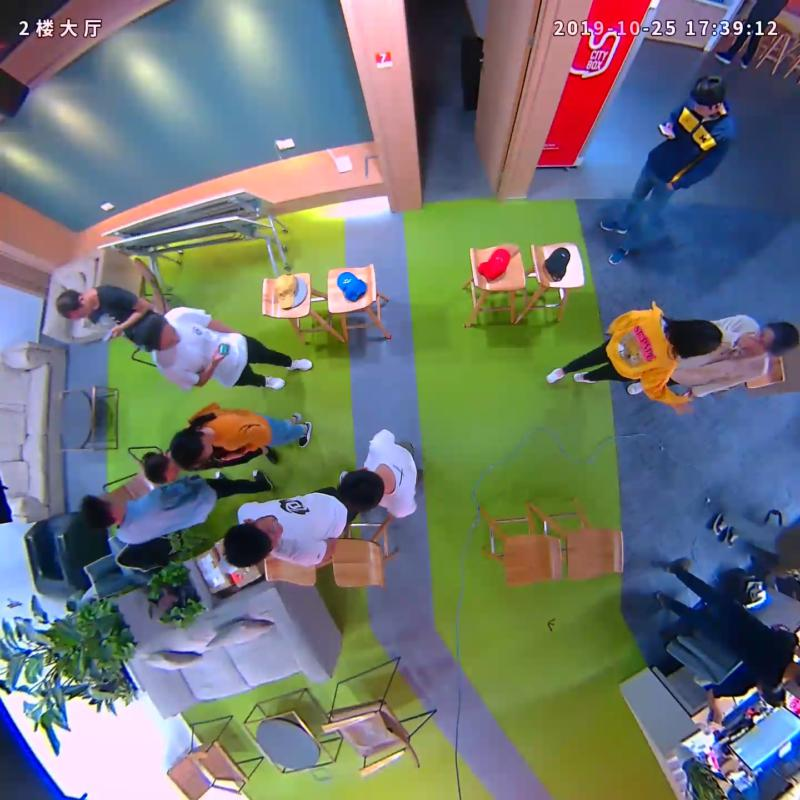head: (224, 518, 283, 568), (339, 468, 385, 515), (749, 322, 800, 358), (677, 319, 724, 358), (167, 426, 214, 465), (137, 313, 181, 353), (79, 493, 125, 531), (689, 73, 725, 119), (56, 288, 95, 319), (143, 452, 179, 485)
